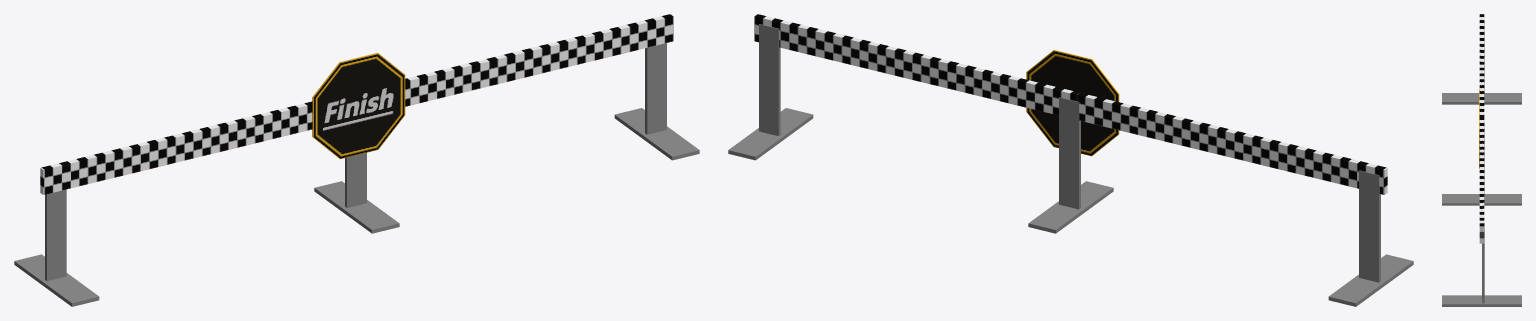
Rendered from obtacle.stop2.fbx.
3 views of the same model, side by side, from view 1: azimuth 30°, elevation 25°; view 2: azimuth 150°, elevation 25°; view 3: azimuth 270°, elevation 25° (orthographic). The views are drawn at different scales.
Visible parts, largest first — view 1: Plane, Plane.001, Circle; view 2: Plane, Plane.001, Circle; view 3: Plane.001, Plane, Circle.
Part boxes in pixels (<box>): Plane: <box>40,14,673,194</box>; Plane.001: <box>14,43,699,306</box>; Circle: <box>312,53,405,159</box>; Plane: <box>754,14,1387,194</box>; Plane.001: <box>728,24,1413,306</box>; Circle: <box>1026,50,1119,156</box>; Plane.001: <box>1442,20,1521,306</box>; Plane: <box>1479,14,1484,243</box>; Circle: <box>1479,89,1479,168</box>.
Size of the model in its own units: 1260 by 292 by 200.
Materials: 1 (1 with a texture image).
